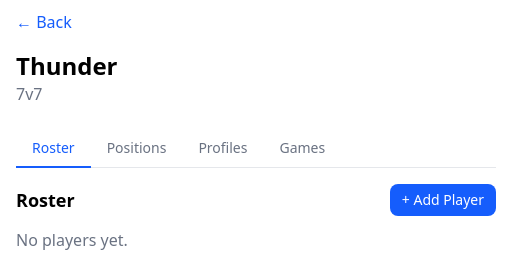
Test: TeamDetail › profiles tab › shows empty profiles state
The image size is (513, 268).
Check: the heading "Thunder" is shown, box [16, 49, 118, 82]
Click the tab "Profiles" at (223, 149), box [182, 130, 264, 168]
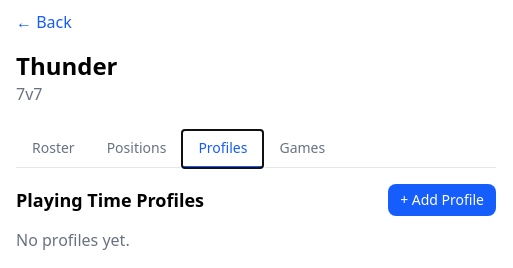
Check: the text "No profiles yet." is shown, box [16, 229, 130, 251]
